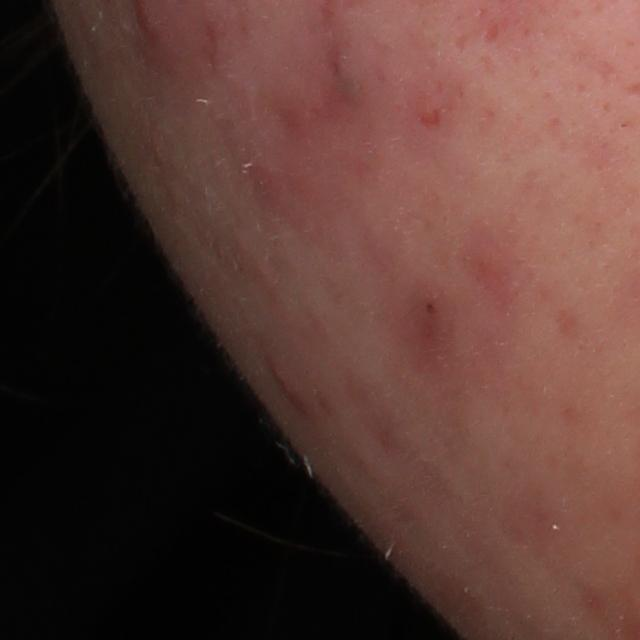papule: (258, 357, 303, 405)
